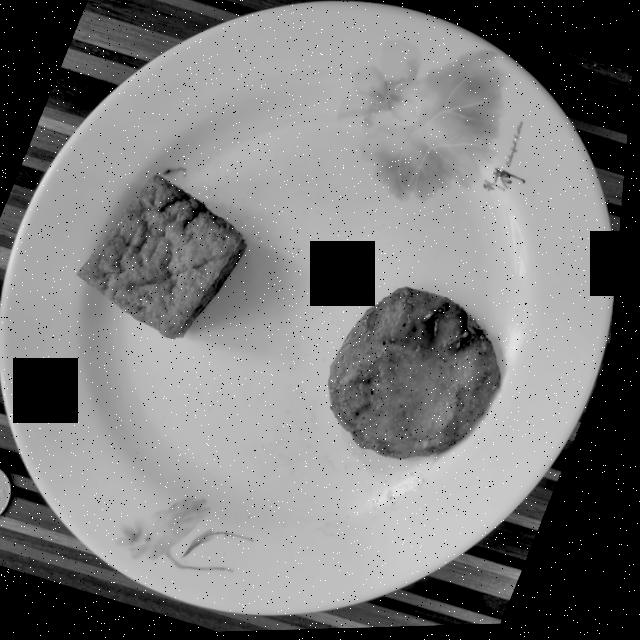coin: (0, 466, 18, 520)
egg tofu: (81, 176, 250, 340)
fish cake: (334, 290, 506, 462)
